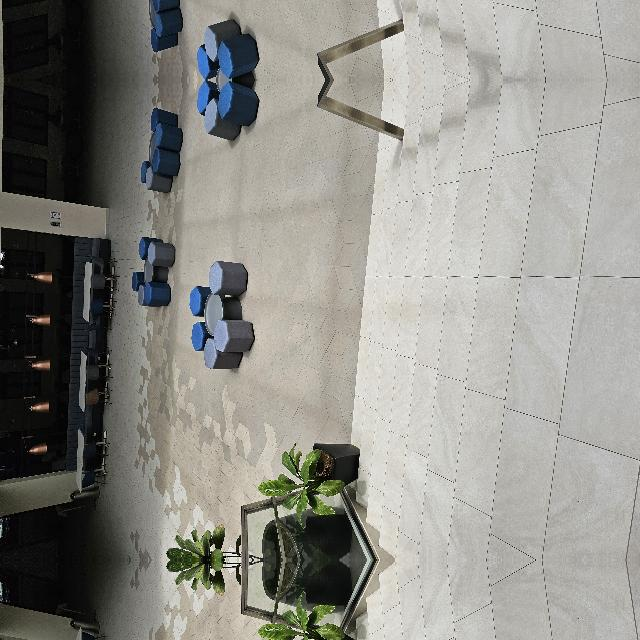obstacle: (412, 379, 481, 501), (188, 267, 302, 337), (50, 348, 132, 438), (422, 270, 480, 334), (411, 619, 480, 640)
